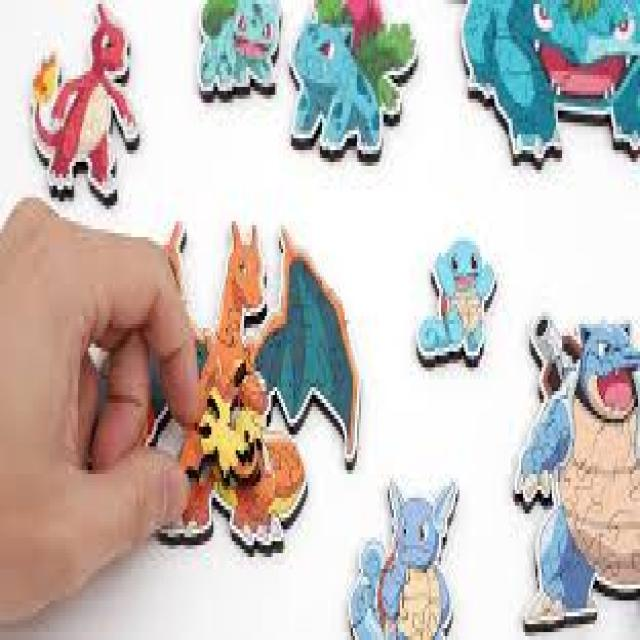Blastoise: (528, 309, 640, 600)
Bulbasaur: (202, 0, 280, 81)
Charizard: (159, 223, 307, 538)
Charmeleon: (44, 12, 134, 186)
Ivysaur: (290, 0, 394, 152)
Squirtle: (428, 236, 493, 358)
Wartortle: (364, 488, 457, 640)
